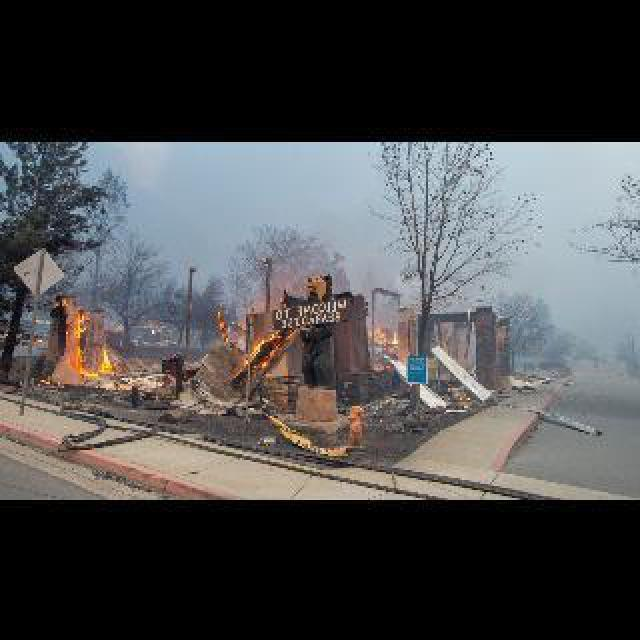Fire: (58, 296, 118, 392), (224, 318, 298, 386)
